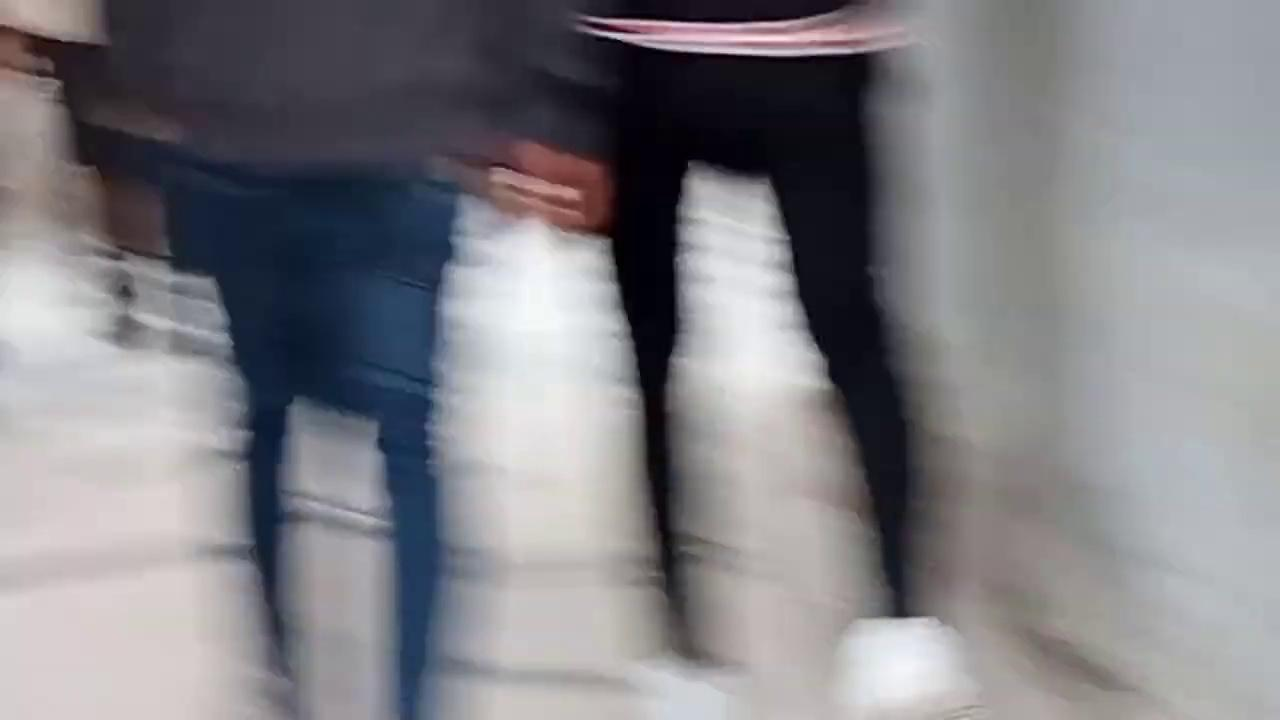person: (15, 1, 623, 717), (568, 2, 924, 662)
